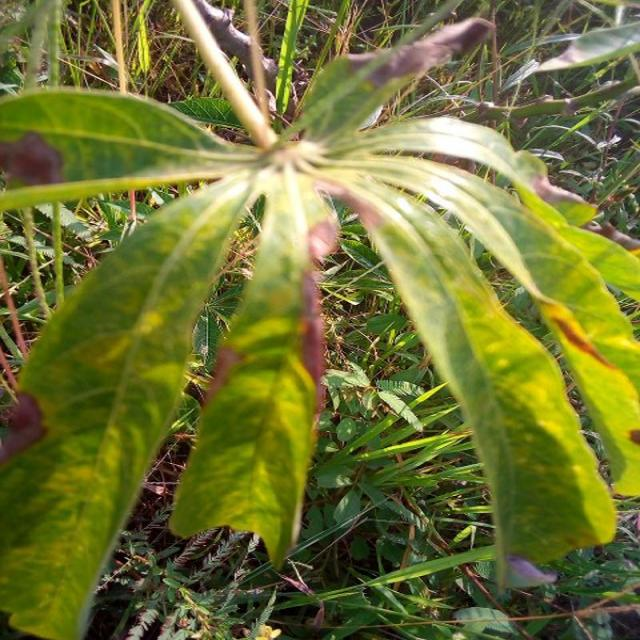cassava leaf: (0, 9, 638, 636), (335, 165, 619, 582), (0, 173, 253, 638)
